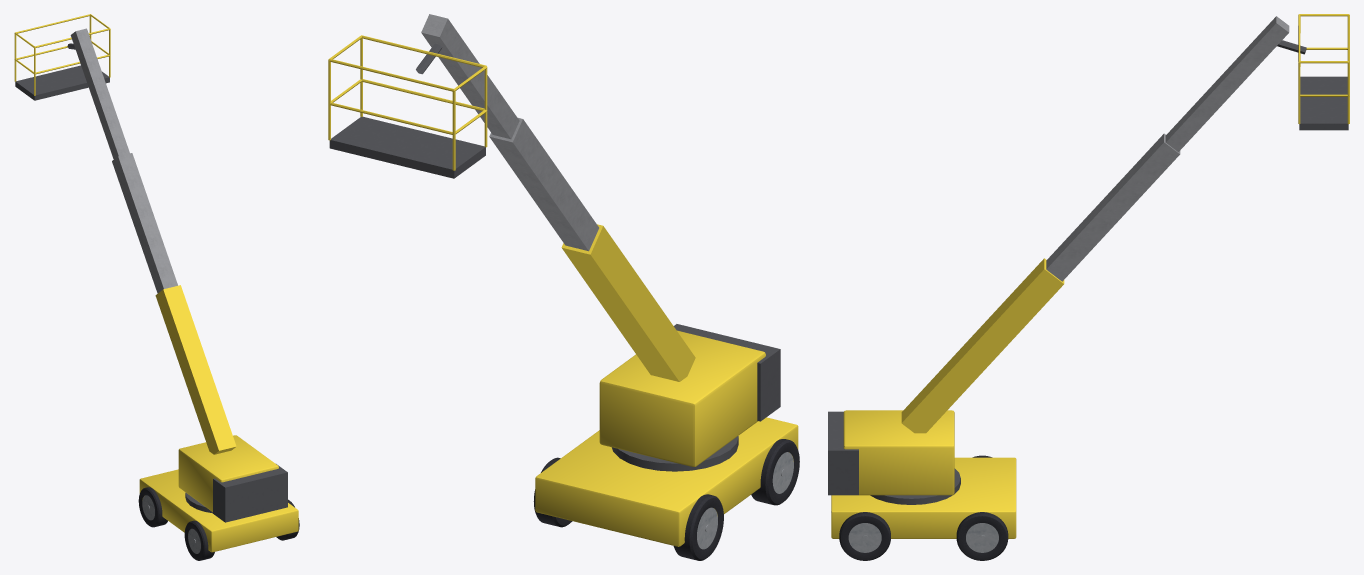
File: lift_boom_yellow.gltf
3 renders of one model, left to right at view 1: azimuth 30°, elevation 25°; view 2: azimuth 150°, elevation 25°; view 3: azimuth 270°, elevation 25°, orthographic. The views are drawn at different scales.
Visible parts, largest first — view 1: lift_boom_yellow; view 2: lift_boom_yellow; view 3: lift_boom_yellow.
Boxes of the visible parts, x1,y1,x2,y2 form: lift_boom_yellow: [14, 14, 299, 560]; lift_boom_yellow: [328, 14, 799, 560]; lift_boom_yellow: [828, 14, 1349, 560].
Bounding box in the file's own units: 2.31 × 9.16 × 8.45.
Materials: 8 (5 with a texture image).
